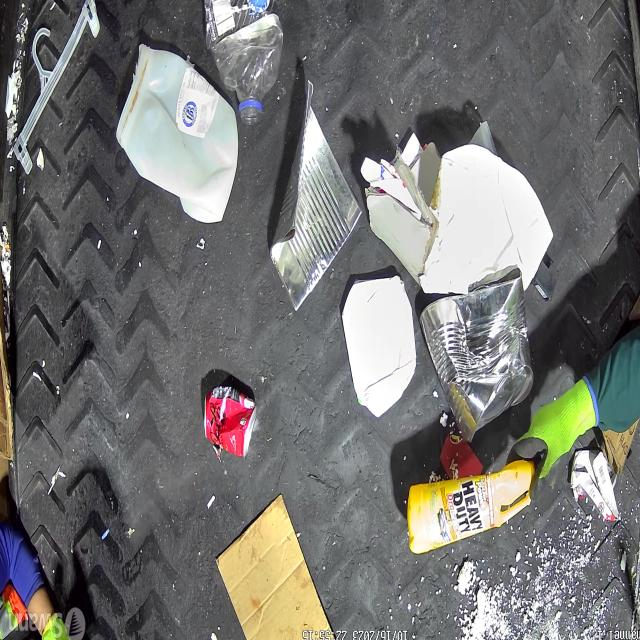can: (416, 266, 535, 446), (204, 386, 258, 460)
milk_jug: (116, 42, 238, 222)
non_white_jug: (408, 458, 538, 556)
plastic_bottle: (203, 0, 283, 124)
